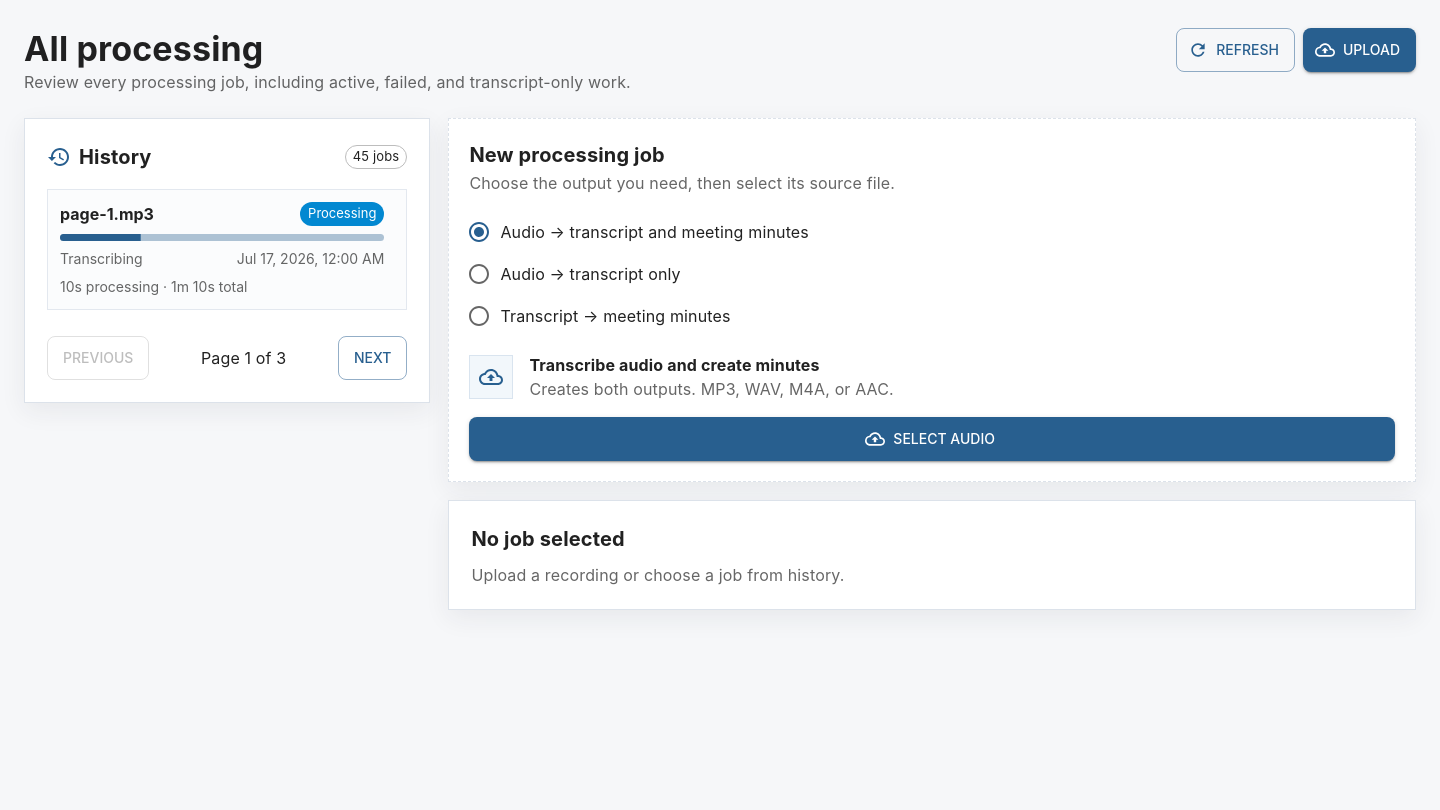
Test: MeetingMind workflow › navigates first, middle, and last history pages while retaining selection
Expected: the text "Page 1 of 3" is shown, [201,346,286,370]
Expected: the button "Previous" is disabled, [47,336,149,380]
Click the button "page-1.mp3" at [107, 214], box [60,202,384,297]
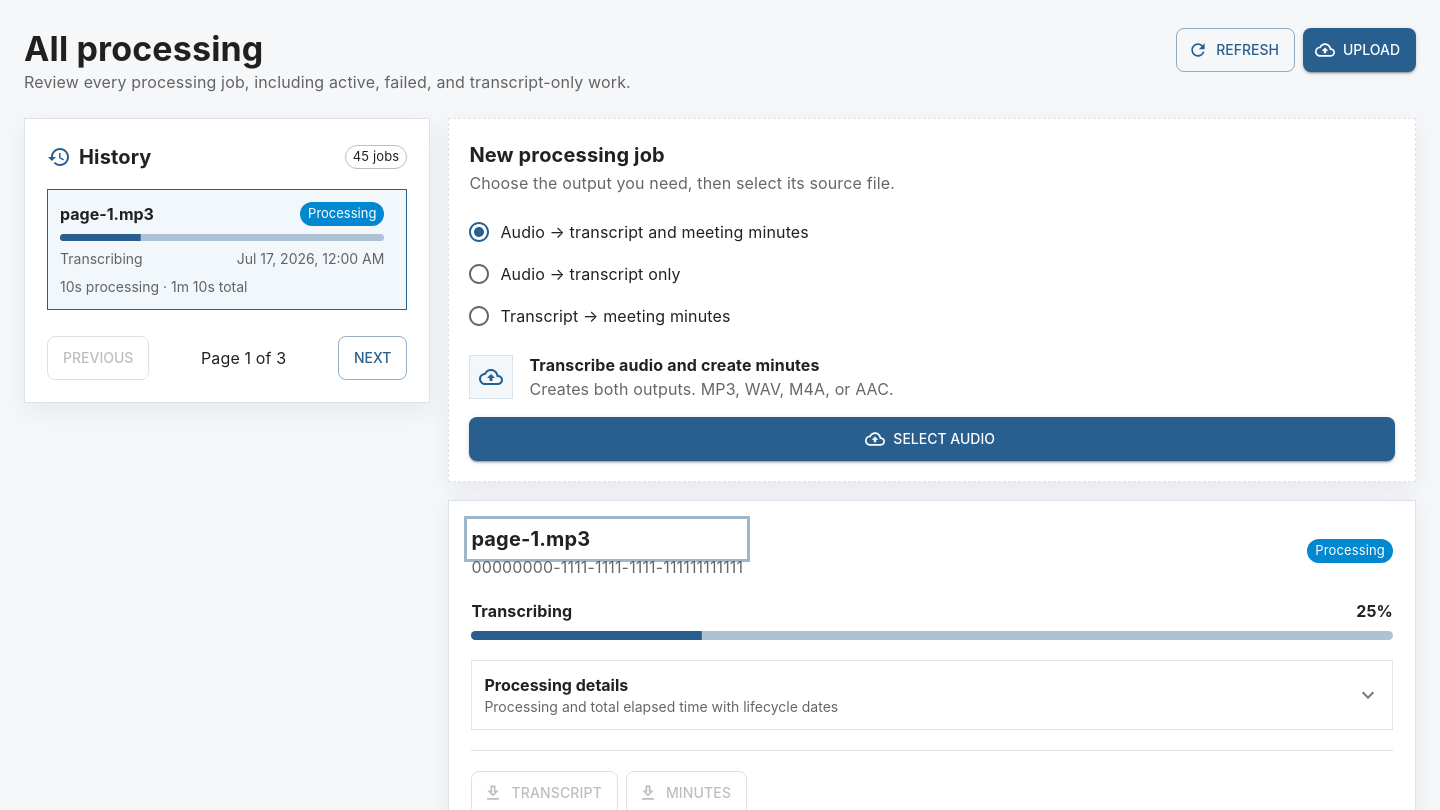
Click the button "Next" at [373, 358], box [338,336,407,380]
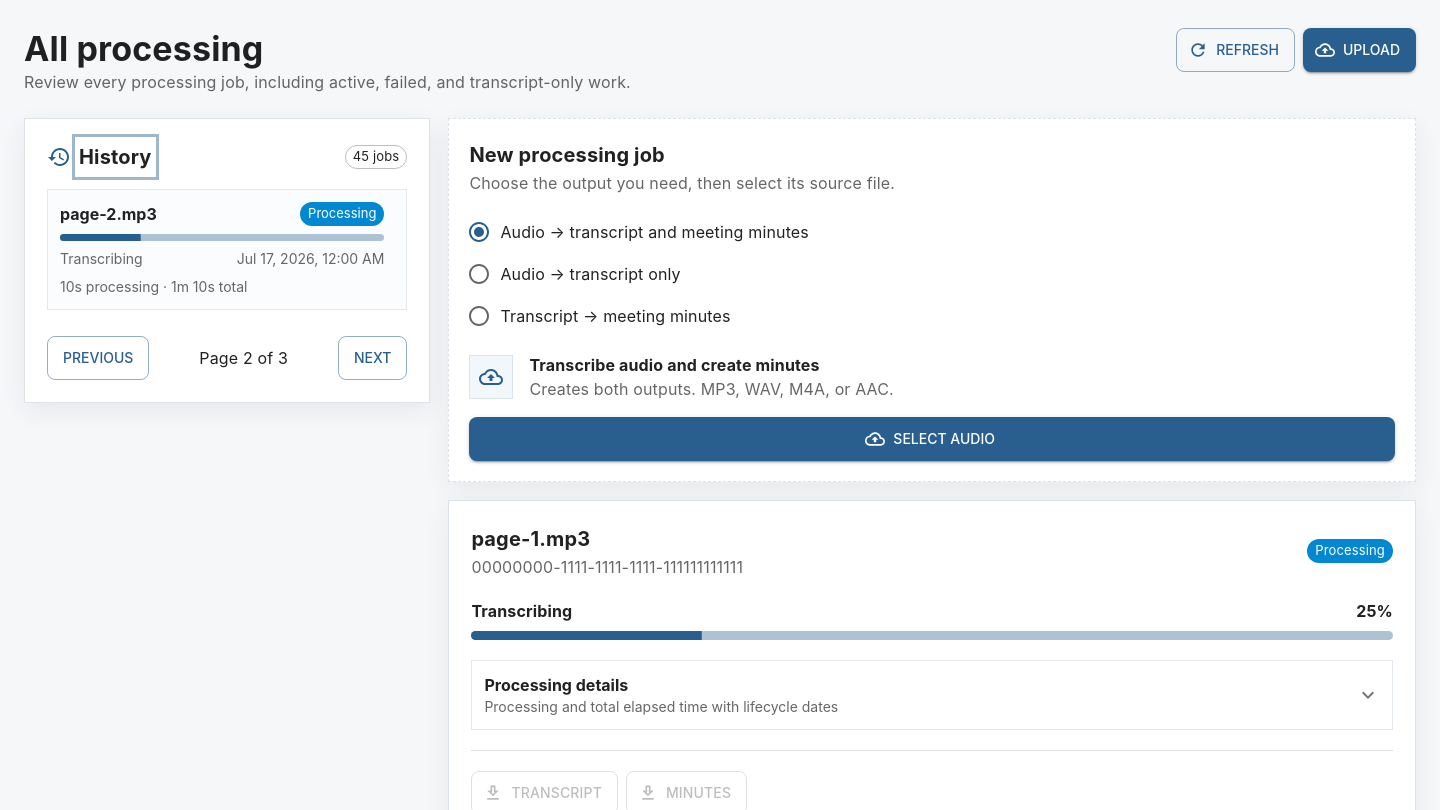
Expected: the heading "page-1.mp3" is shown, [471,527,590,551]
Now the text "Page 2 of 3" is shown, box [199,346,288,370]
Now the button "Previous" is enabled, box [47,336,149,380]
Click the button "Next" at [373, 358], box [338,336,407,380]
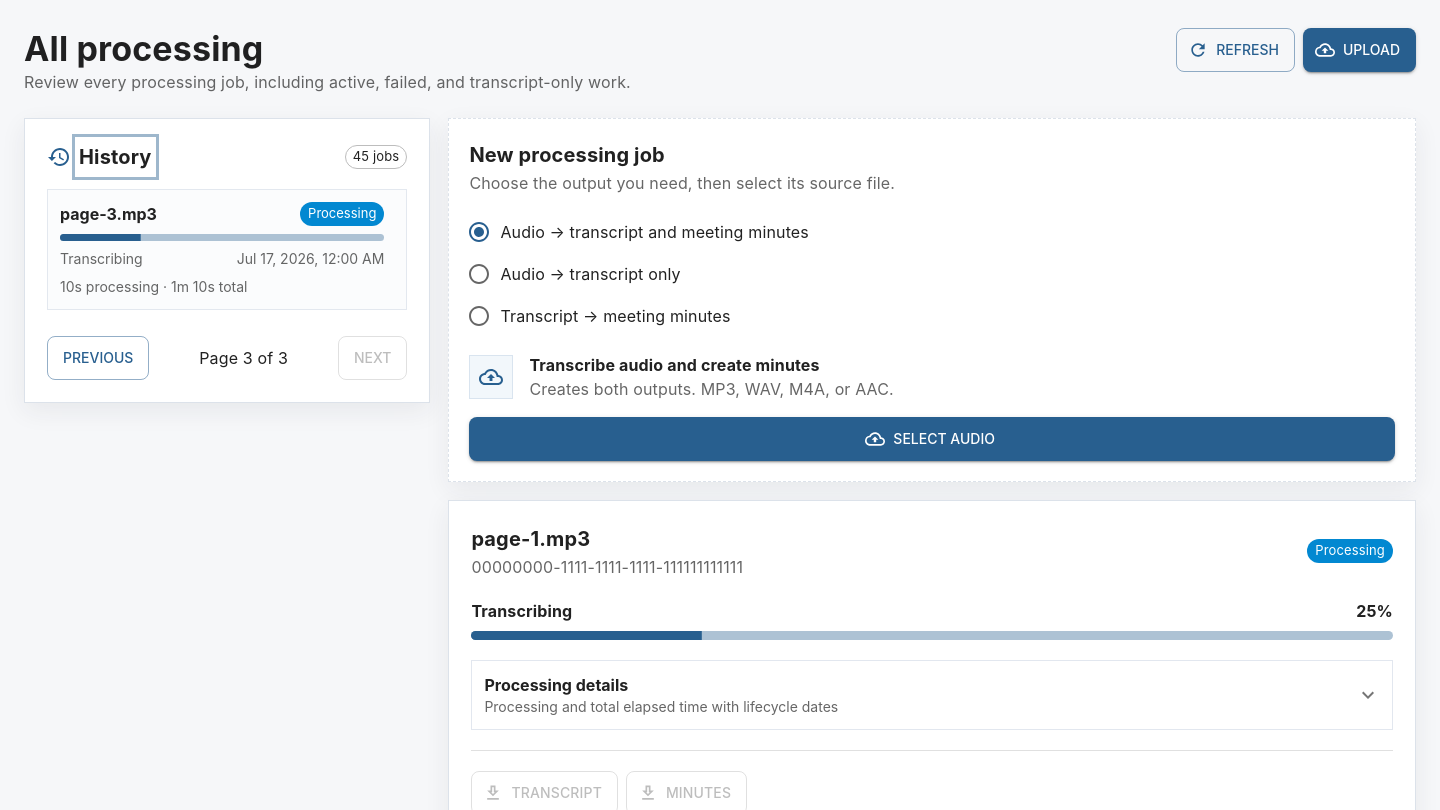
Now the text "Page 3 of 3" is shown, box [199,346,288,370]
Now the button "Next" is disabled, box [338,336,407,380]
